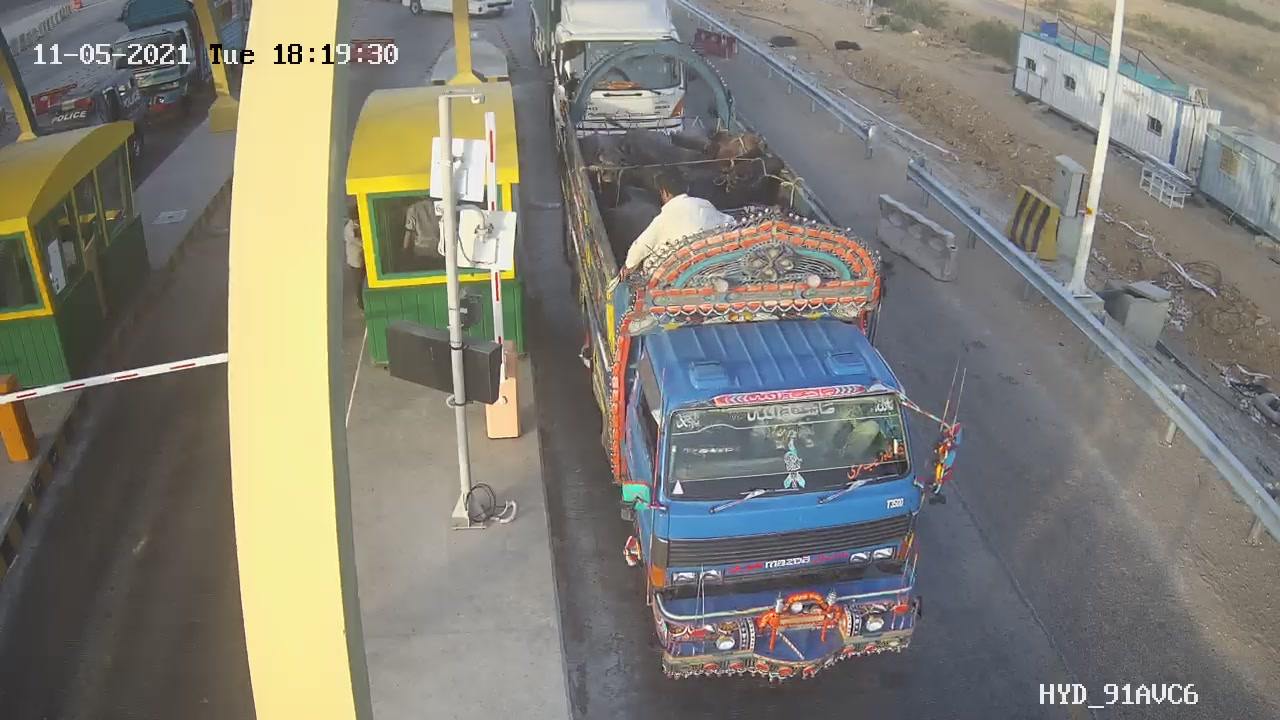F5: (546, 70, 962, 685)
